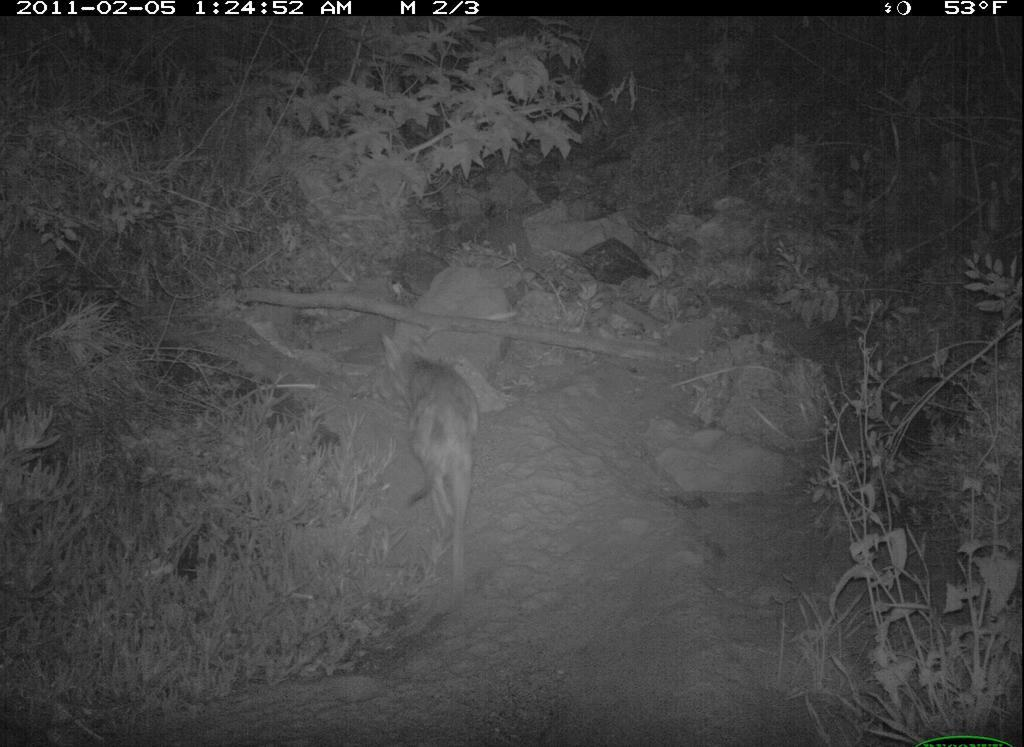coyote: (371, 333, 484, 598)
